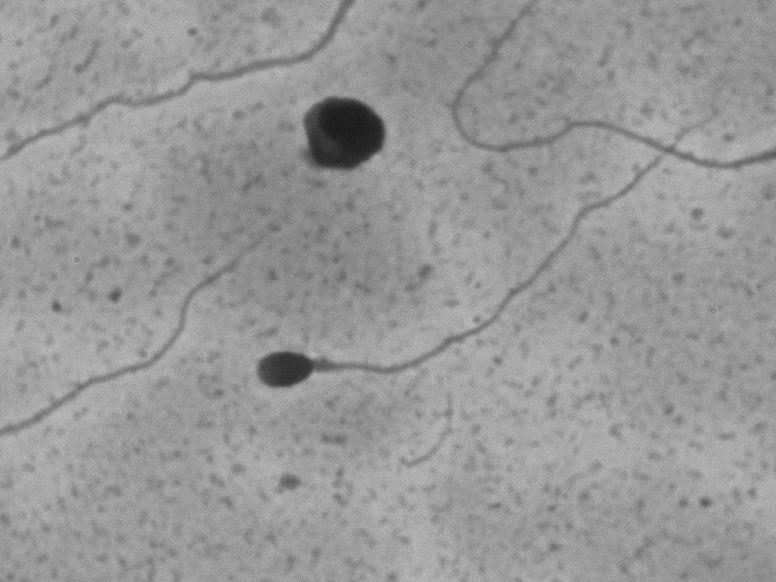Normal: (239, 77, 757, 403)
